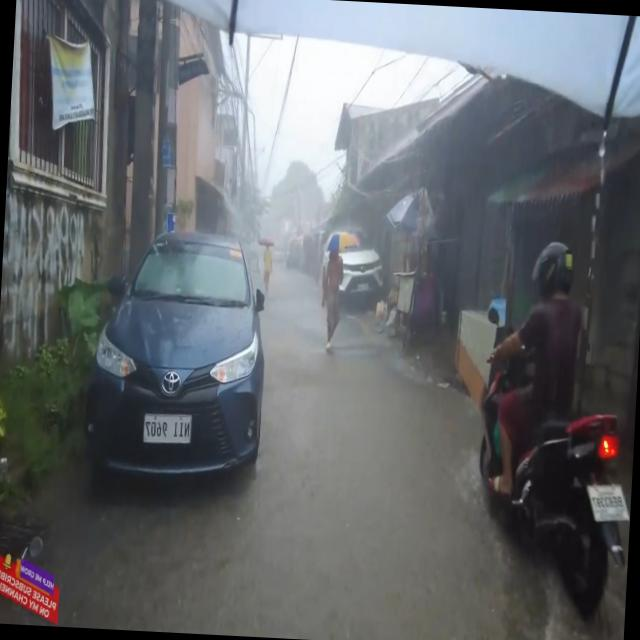full: (530, 237, 574, 306)
